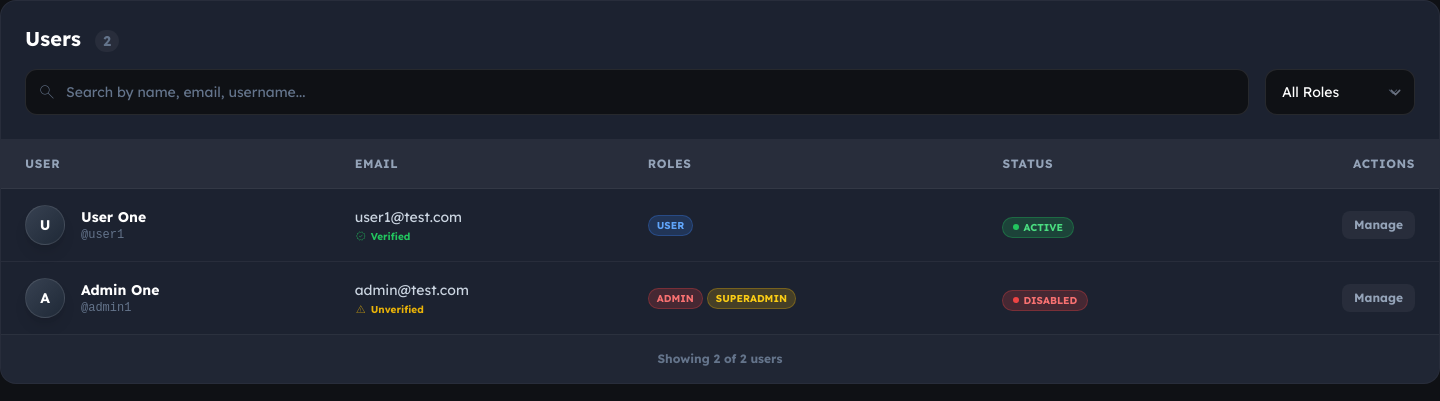
Test: UserList › should filter users by search term
Type "Admin" into the field with placeholder "Search by name, email, username..." at (637, 92), box top-left (25, 69), bottom-right (1249, 115)
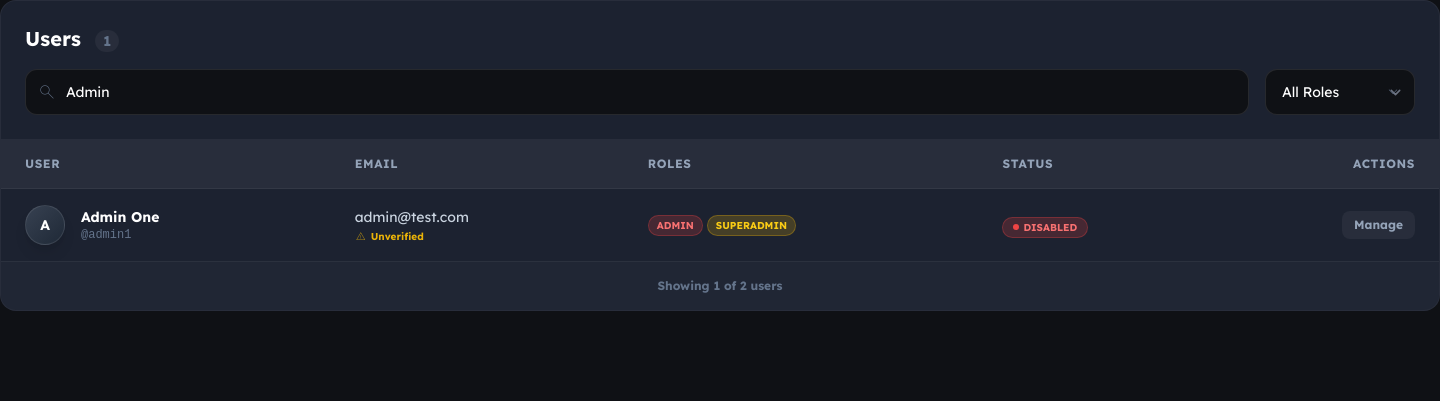
Check: the text "User One" is gone
